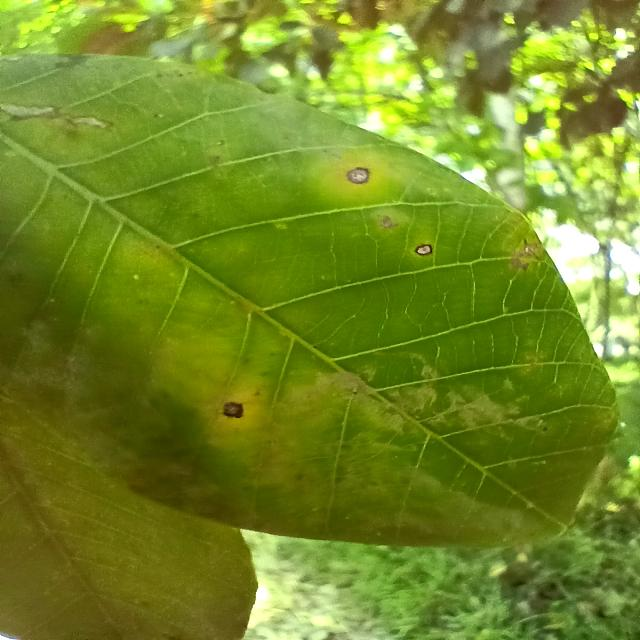Colletotrichum: (346, 167, 370, 184), (223, 402, 244, 418), (414, 244, 433, 256)
